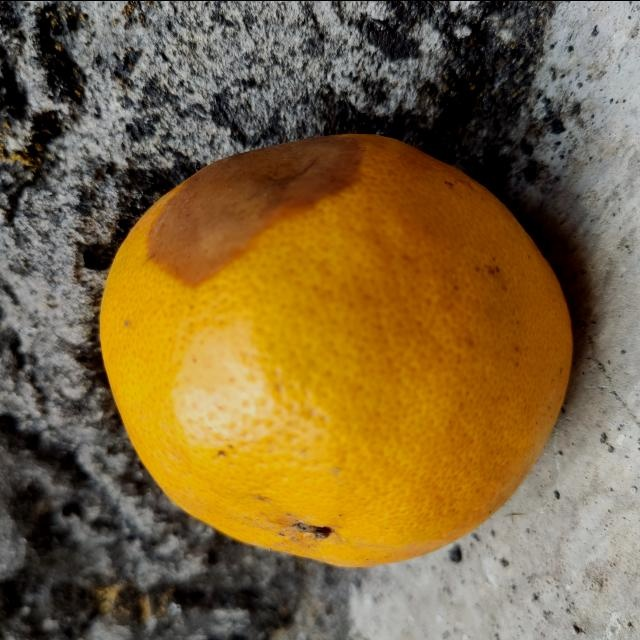agrume: (100, 134, 576, 566)
